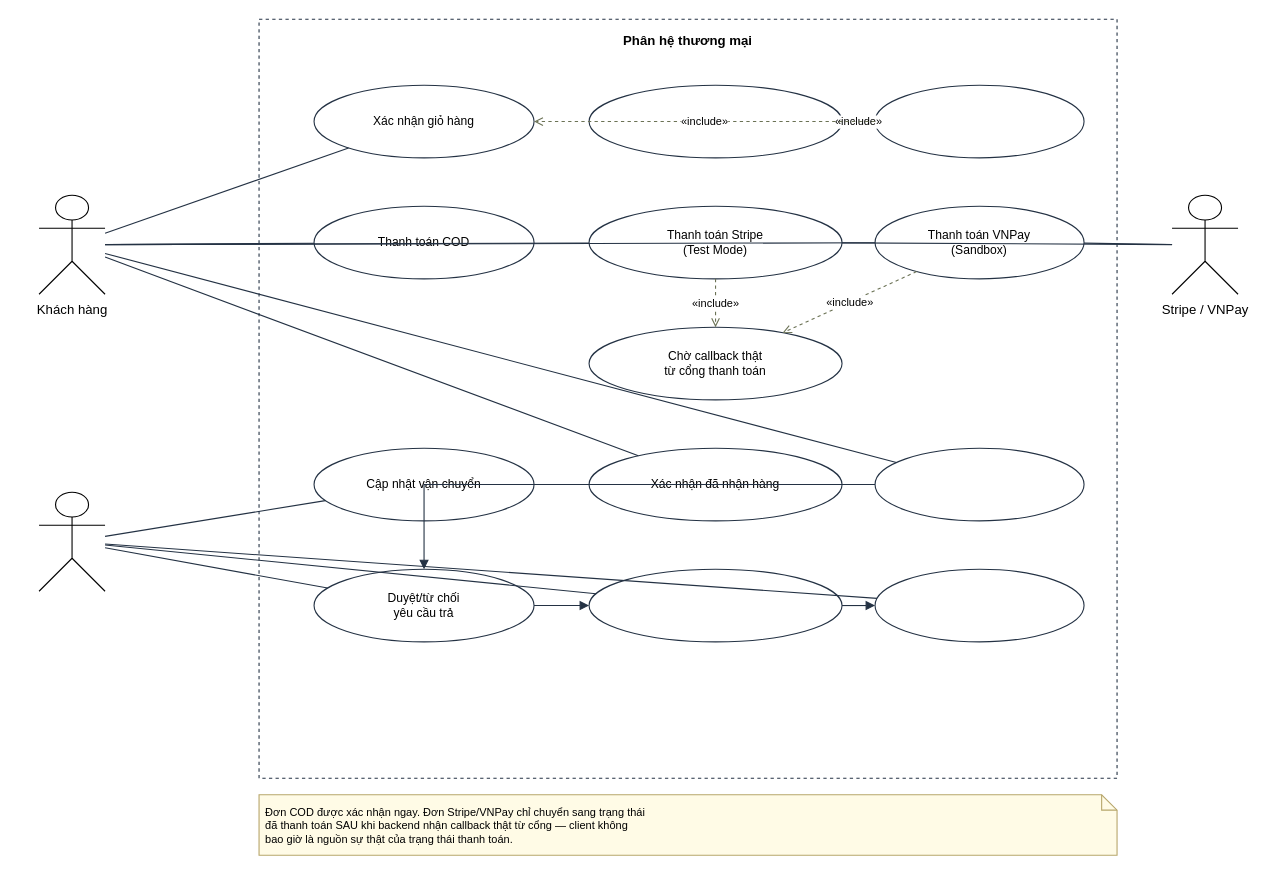
The diagram is 1267 pixels wide and 875 high, and some of its shapes have lost their labels. Each missing label, with the centre of its shape:
"Hoàn tiền theo từng dòng hàng" belongs at pixel 979 605.
"Nhân viên / Admin" belongs at pixel 71 541.
"Theo dõi gửi trả hàng" belongs at pixel 715 605.
"Tính lại giá, voucher, tồn kho phía server" belongs at pixel 715 121.
"Tạo đơn hàng" belongs at pixel 979 121.
"Yêu cầu trả từng dòng" belongs at pixel 979 484.
